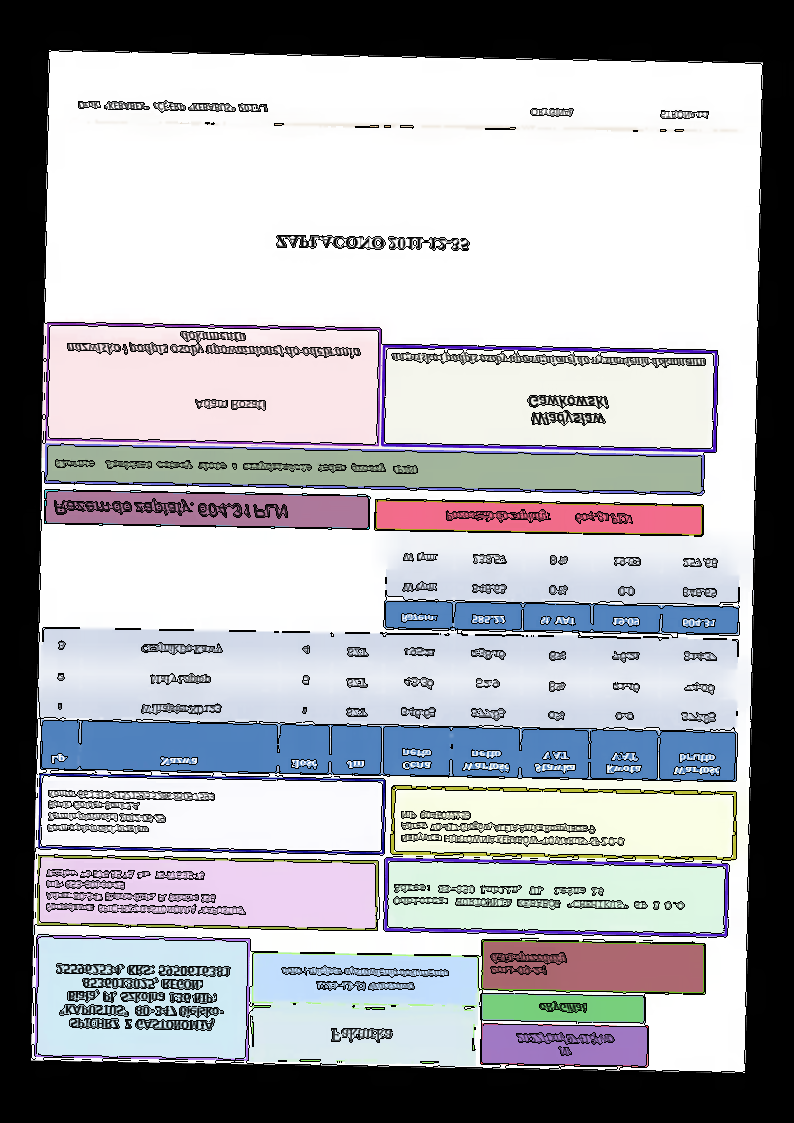Table: (40, 626, 739, 782), (384, 537, 740, 635)
TextBox: (52, 962, 232, 1033), (44, 867, 248, 917), (392, 881, 691, 914), (64, 328, 361, 361), (398, 809, 628, 848), (46, 788, 217, 837), (52, 457, 421, 477), (390, 348, 708, 370), (49, 496, 293, 521), (277, 964, 450, 994), (274, 232, 473, 255), (442, 507, 635, 526), (512, 1028, 616, 1060), (75, 98, 270, 115), (526, 393, 610, 430), (488, 949, 568, 976), (328, 1025, 394, 1044), (192, 397, 267, 412), (536, 999, 589, 1015), (658, 107, 710, 120), (528, 106, 574, 119)
